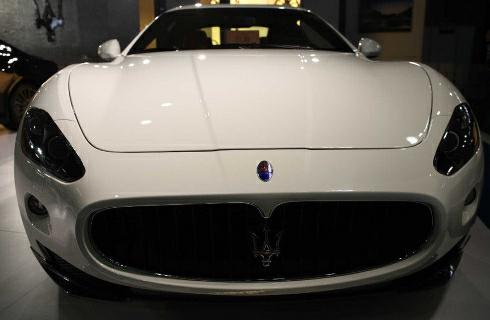名爵-ZS: (12, 7, 480, 300)
